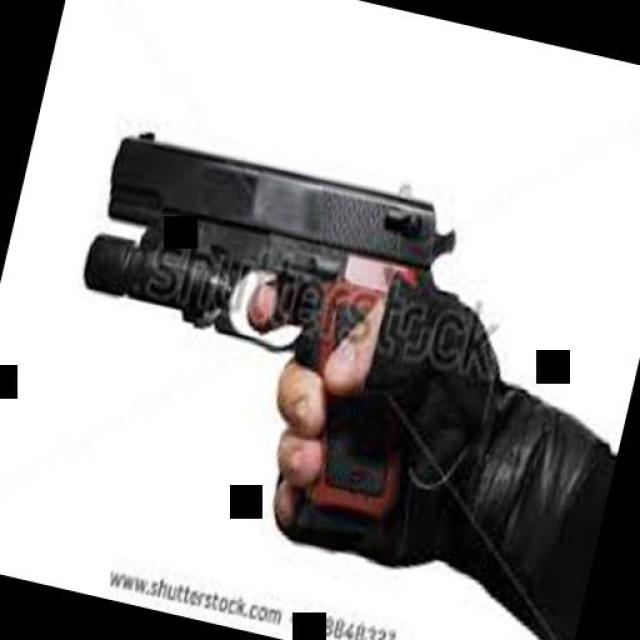gun: (28, 99, 488, 574)
